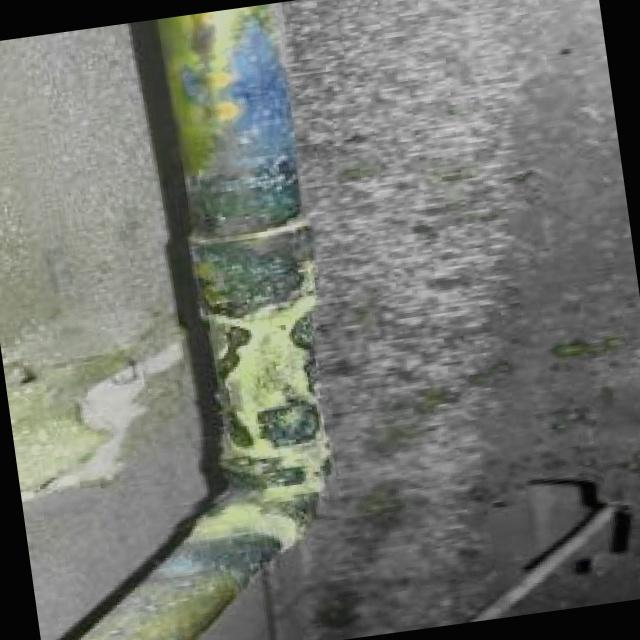rust: (0, 2, 370, 639)
